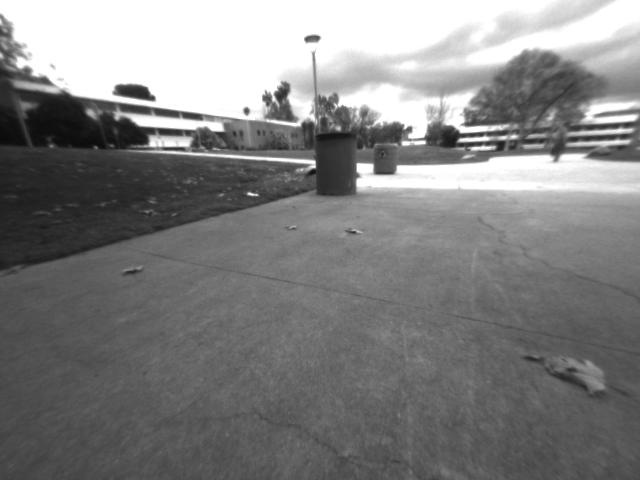trashcan: (316, 131, 356, 200), (373, 141, 398, 178)
